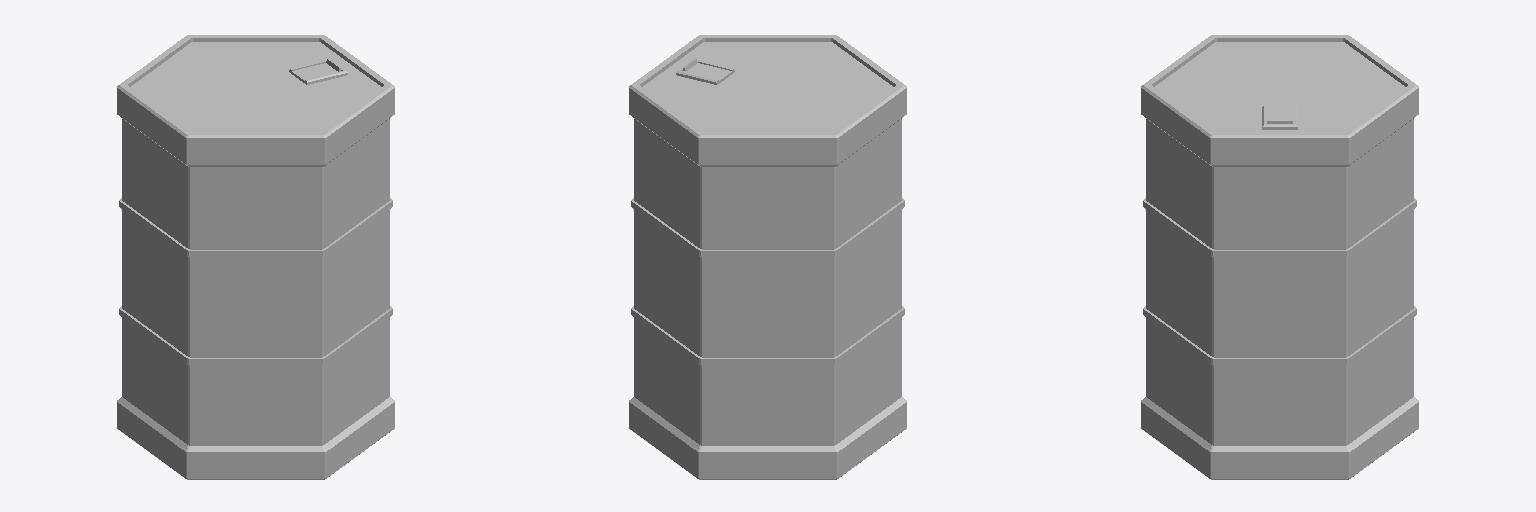
The model's file is Drum_Low.obj.
3 renders of one model, left to right at view 1: azimuth 30°, elevation 25°; view 2: azimuth 150°, elevation 25°; view 3: azimuth 270°, elevation 25°, orthographic.
Visible parts, largest first — view 1: Low; view 2: Low; view 3: Low.
Boxes of the visible parts, box(x1,y1,x2,y2) form: Low: box(117, 35, 394, 479); Low: box(629, 35, 906, 479); Low: box(1141, 35, 1418, 479).
Bounding box in the file's own units: 3.4 × 5.4 × 3.91.